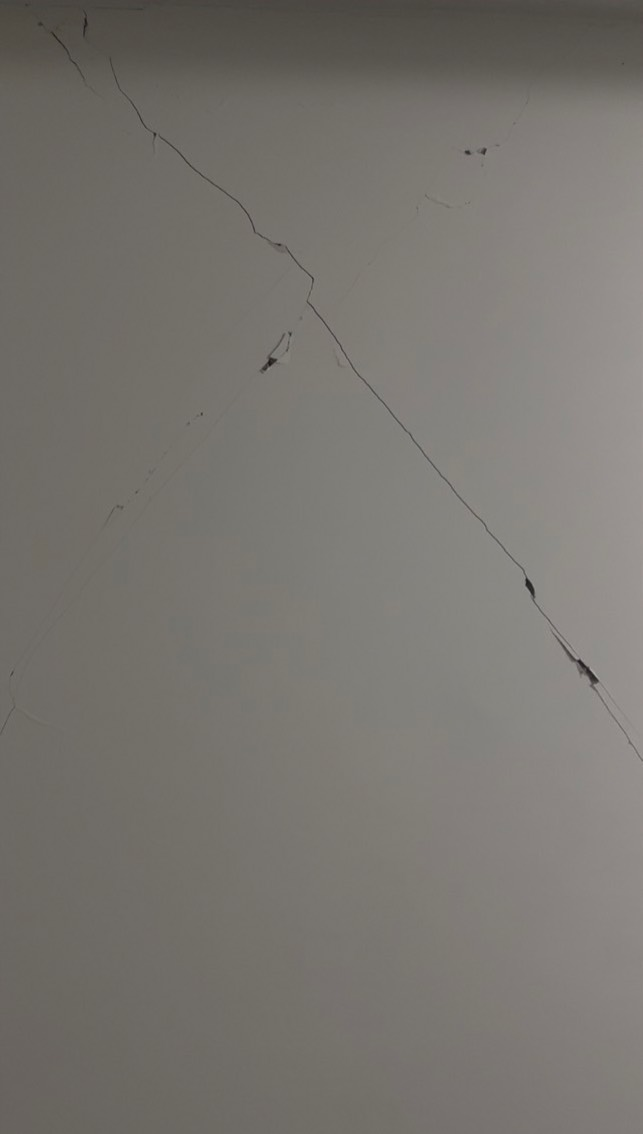Low: (12, 6, 643, 751)
